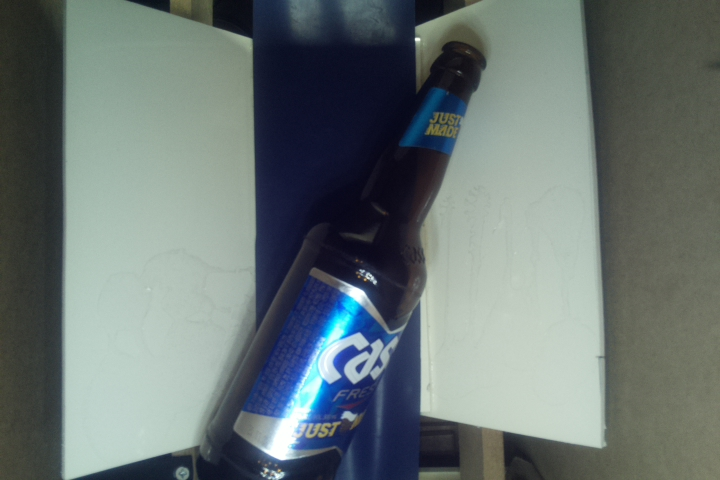makju: (192, 42, 488, 480)
